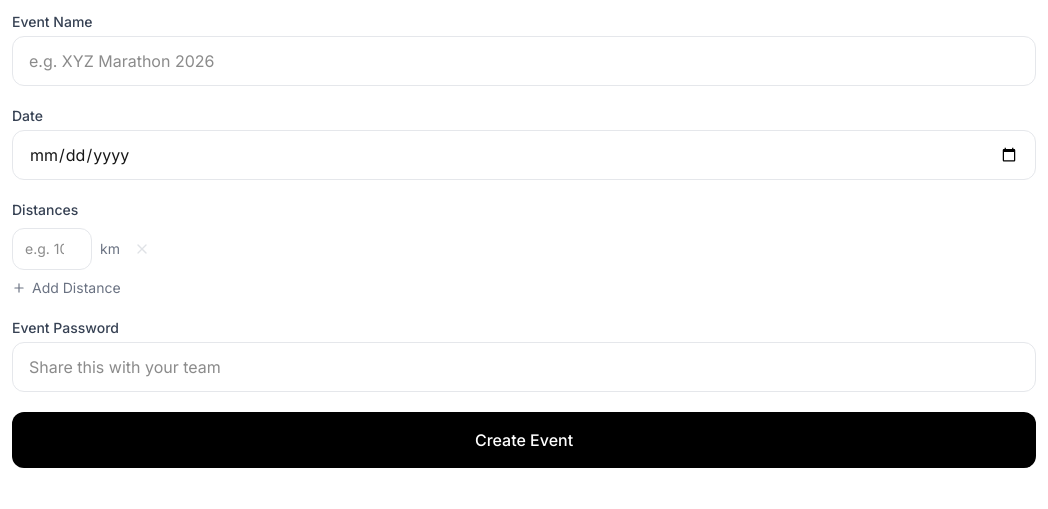
EventSetupForm — password field › shows "Enter a password" when password field is empty on submit
Step 1. Type "Test Marathon" into the field with placeholder "e.g. XYZ Marathon 2026" → [524, 61], box [12,36,1036,86]
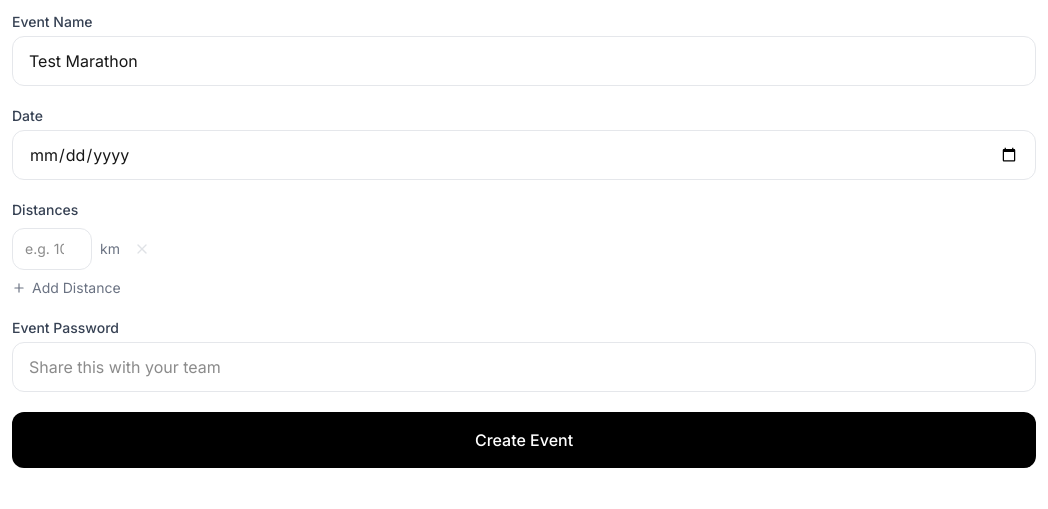
Step 2. Type "2026-04-01" into the date field labelled "Date" → [524, 155], box [12,130,1036,180]
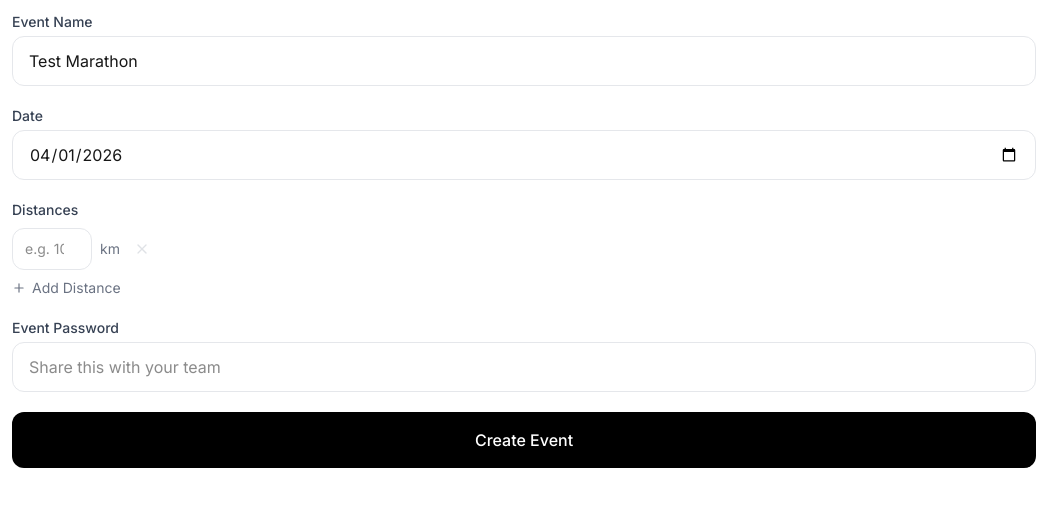
Step 3. Type "10" into the number field with placeholder "e.g. 10" → [52, 249], box [12,228,92,270]
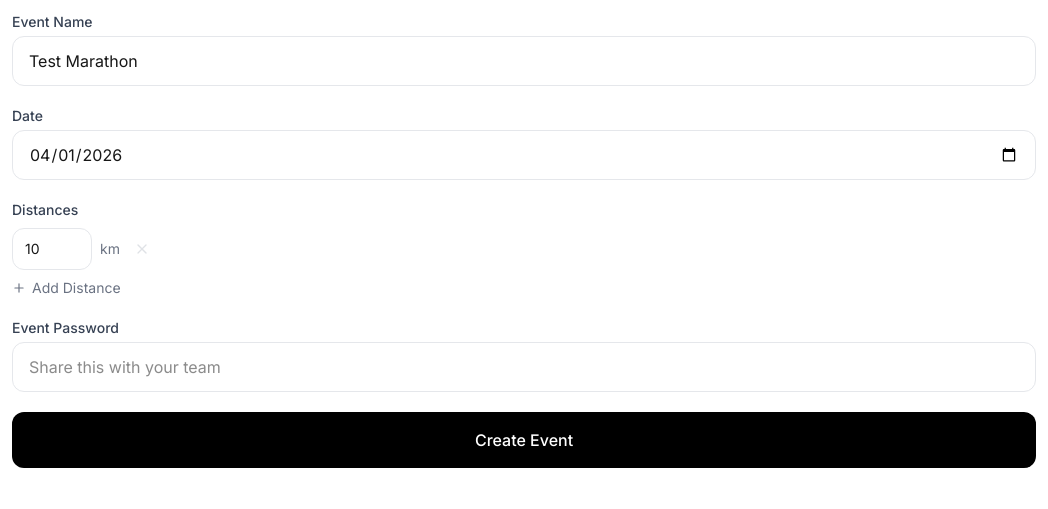
Step 4. Click the button "Create Event" → [524, 440], box [12,412,1036,468]
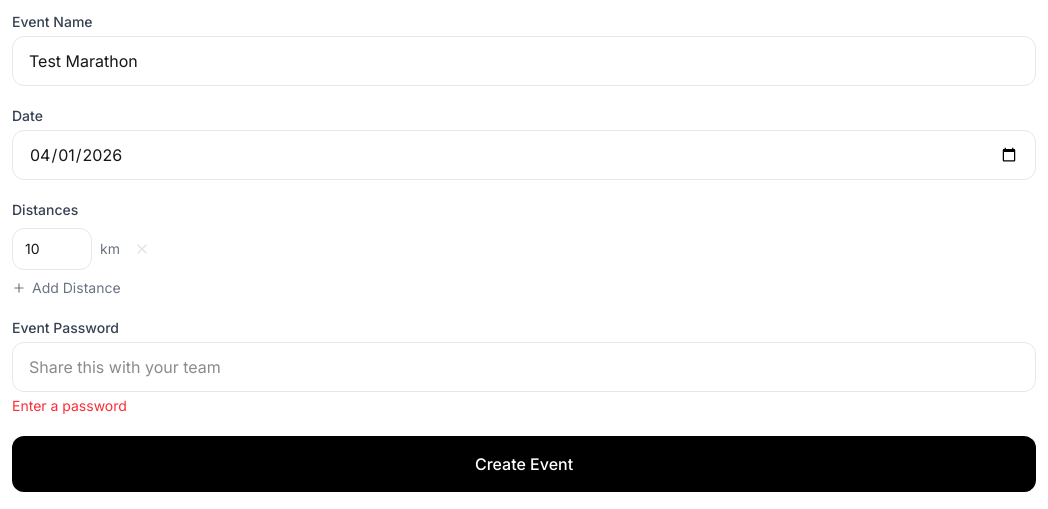
expect the text "Enter a password" is shown: met, box [12,397,127,414]
